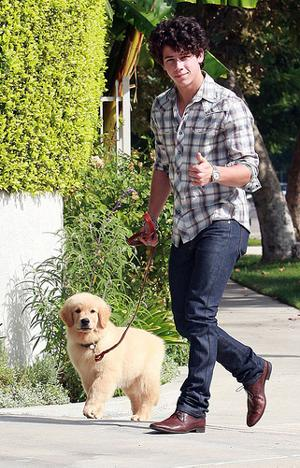person: (140, 16, 272, 435)
